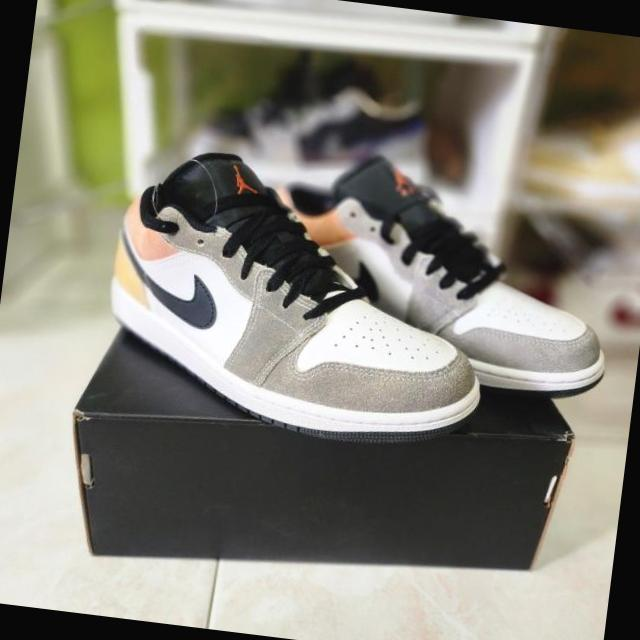nike_original_jordan: (88, 138, 511, 462), (263, 143, 629, 413)
